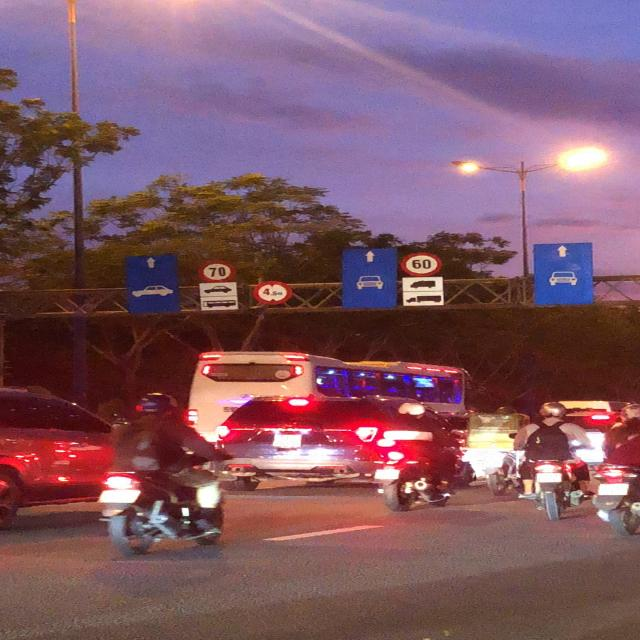Bien bao han che chieu cao: (251, 279, 295, 306)
Bien bao toc do toi da cho phep: (393, 250, 446, 278), (195, 260, 237, 285)
